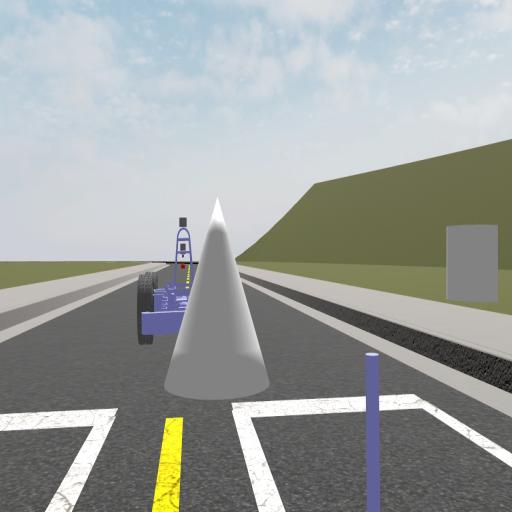ERP-42: (136, 218, 196, 344)
